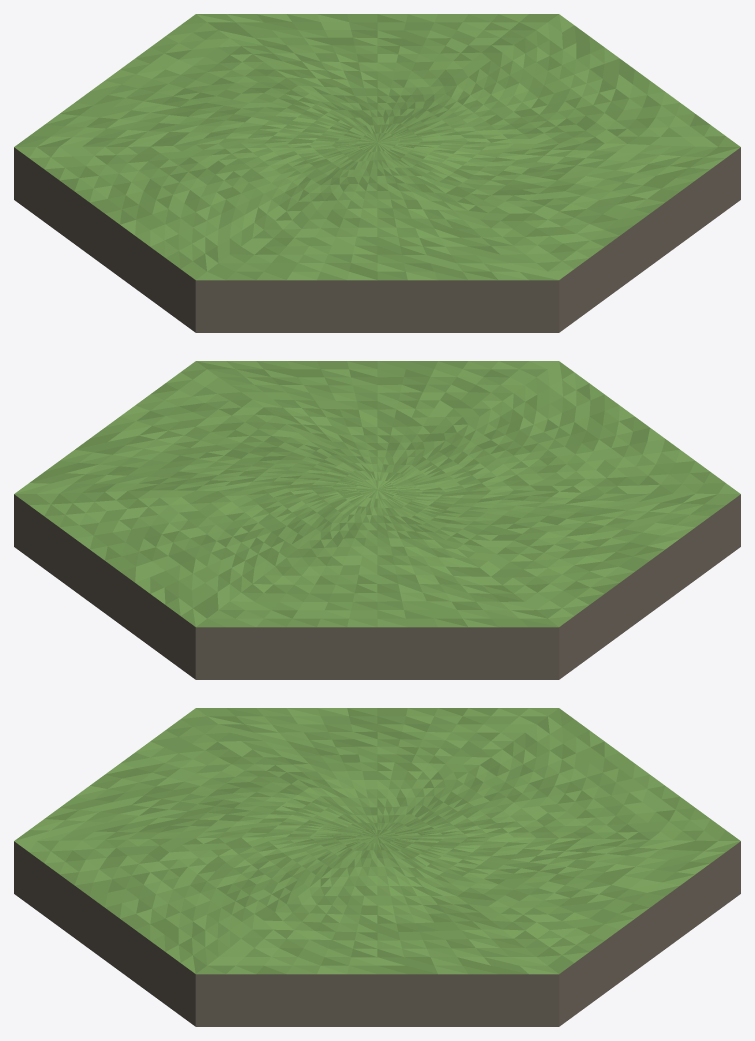
The model's file is TERRAIN_GRASS_v00.fbx.
The picture shows the model from 3 angles, top to bottom: view 1: azimuth 30°, elevation 25°; view 2: azimuth 150°, elevation 25°; view 3: azimuth 270°, elevation 25°; orthographic projection.
Visible parts, largest first — view 1: TERRAIN_GRASS_v00; view 2: TERRAIN_GRASS_v00; view 3: TERRAIN_GRASS_v00.
Boxes of the visible parts, left/top/right/bottom form: TERRAIN_GRASS_v00: left=14, top=14, right=740, bottom=332; TERRAIN_GRASS_v00: left=14, top=361, right=740, bottom=679; TERRAIN_GRASS_v00: left=14, top=708, right=740, bottom=1026.
Bounding box in the file's own units: 173 × 18.41 × 200.
